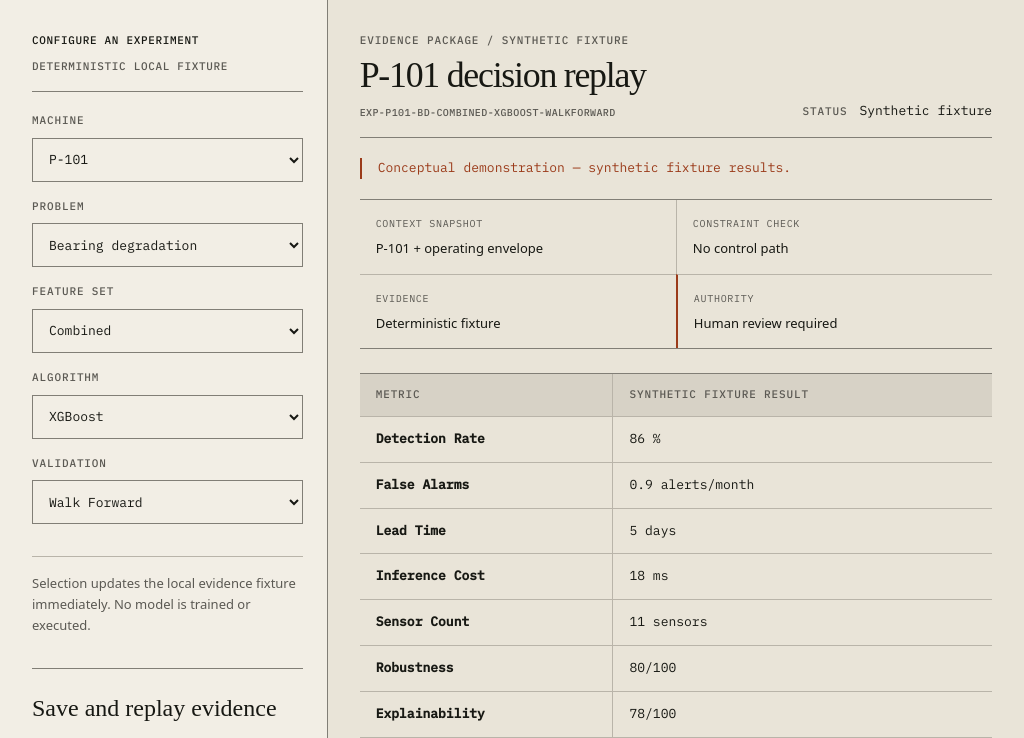
Scenario: ExperimentDemo › recomputes deterministic evidence when Algorithm changes
The image size is (1024, 738).
Select "Physics Residual" in the dropdown labelled "Algorithm": (167, 417) 32,395 -> 303,439
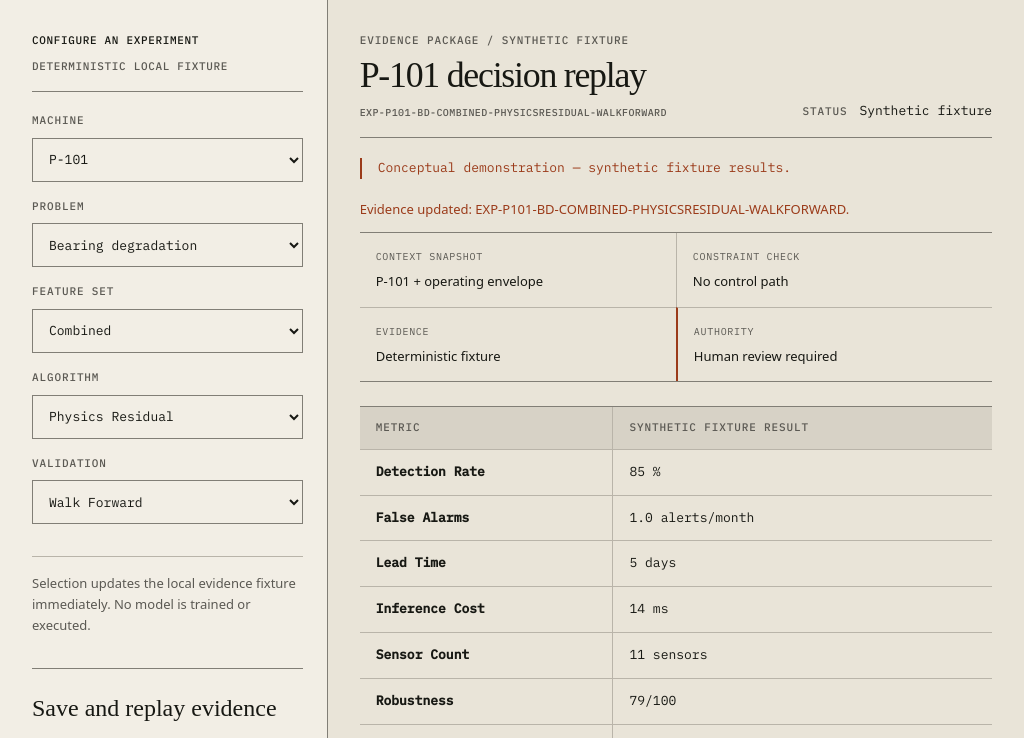
Now the text with test id "experiment-id" no longer shows "EXP-P101-BD-COMBINED-XGBOOST-WALKFORWARD", box 360,105 -> 667,121
Now the message shows "Evidence updated: EXP-P101-BD-", box 360,200 -> 849,218
